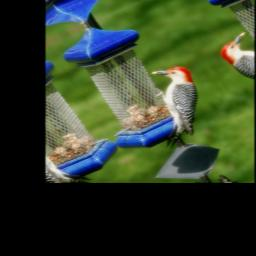Woodpecker: (118, 57, 228, 154)
